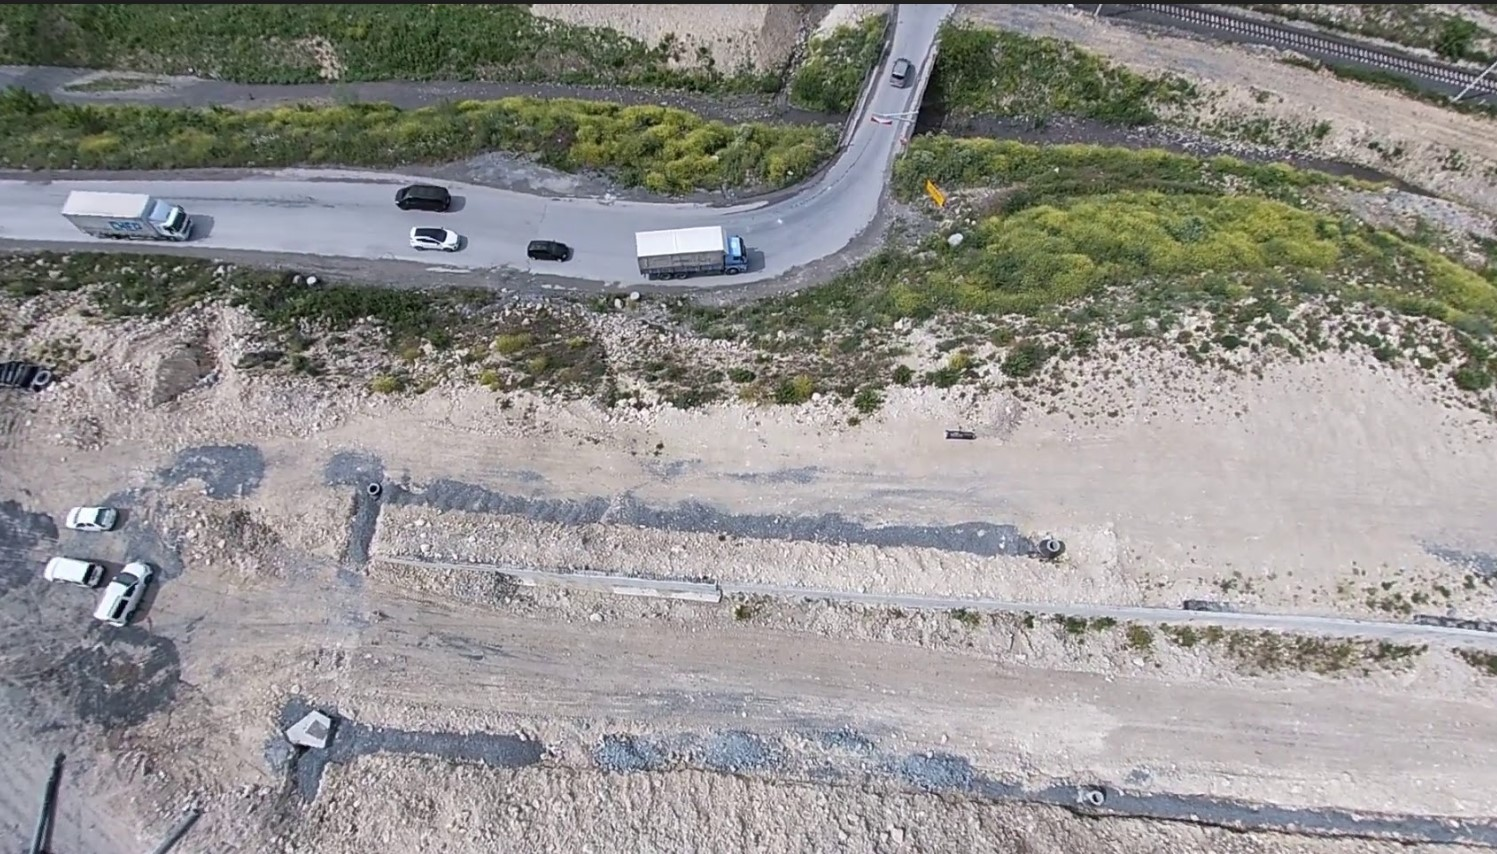araba: (92, 556, 158, 629), (38, 553, 103, 587), (391, 183, 454, 212), (410, 224, 467, 252), (66, 504, 118, 531), (527, 239, 571, 260), (890, 55, 910, 88)
kamyon: (56, 186, 192, 242), (635, 224, 757, 283)
